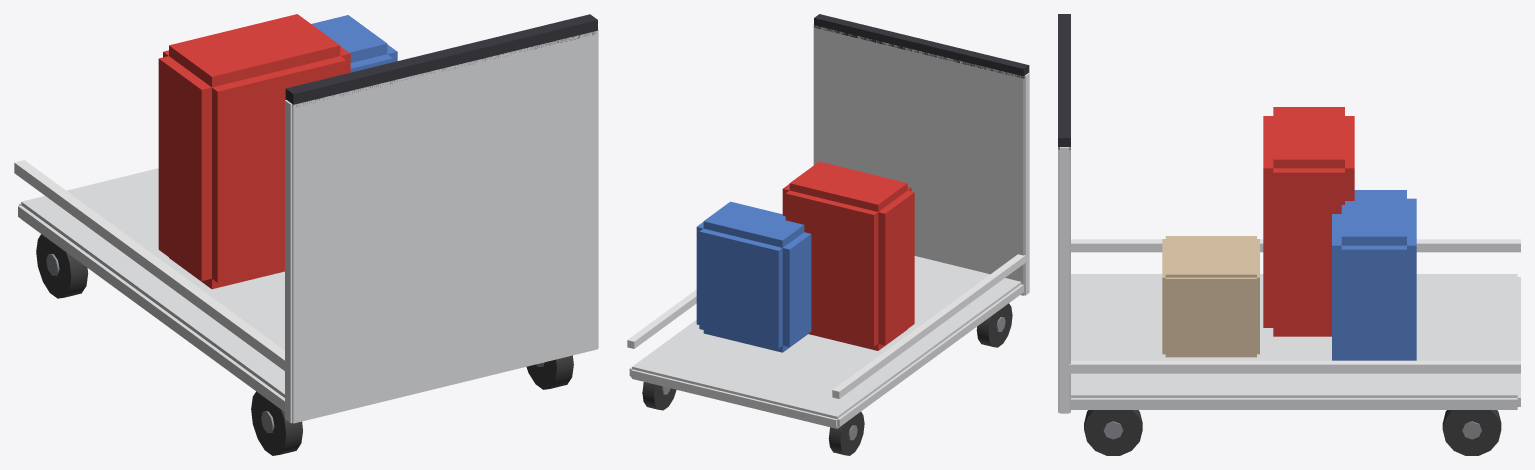
Rendered from baggage_cart.glb.
The picture shows the model from 3 angles, left to right: view 1: azimuth 30°, elevation 25°; view 2: azimuth 150°, elevation 25°; view 3: azimuth 270°, elevation 25°; orthographic projection. The views are drawn at different scales.
Parts seen in each view (by area): view 1: baggage_cart; view 2: baggage_cart; view 3: baggage_cart.
Boxes of the visible parts, <box> form: baggage_cart: <box>14,14,598,455</box>; baggage_cart: <box>627,14,1029,455</box>; baggage_cart: <box>1058,14,1520,455</box>.
Bounding box in the file's own units: 0.91 × 1.09 × 1.42.
